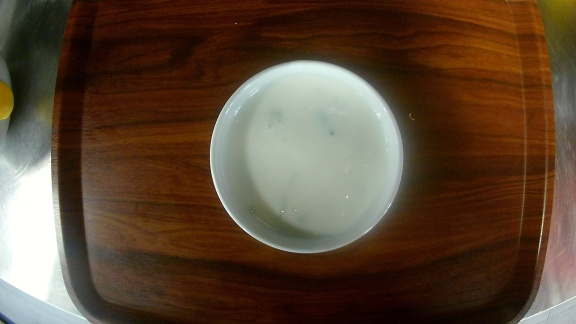cacik: (211, 60, 405, 254)
